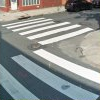crosswalk: (0, 49, 99, 100), (2, 17, 93, 45)
